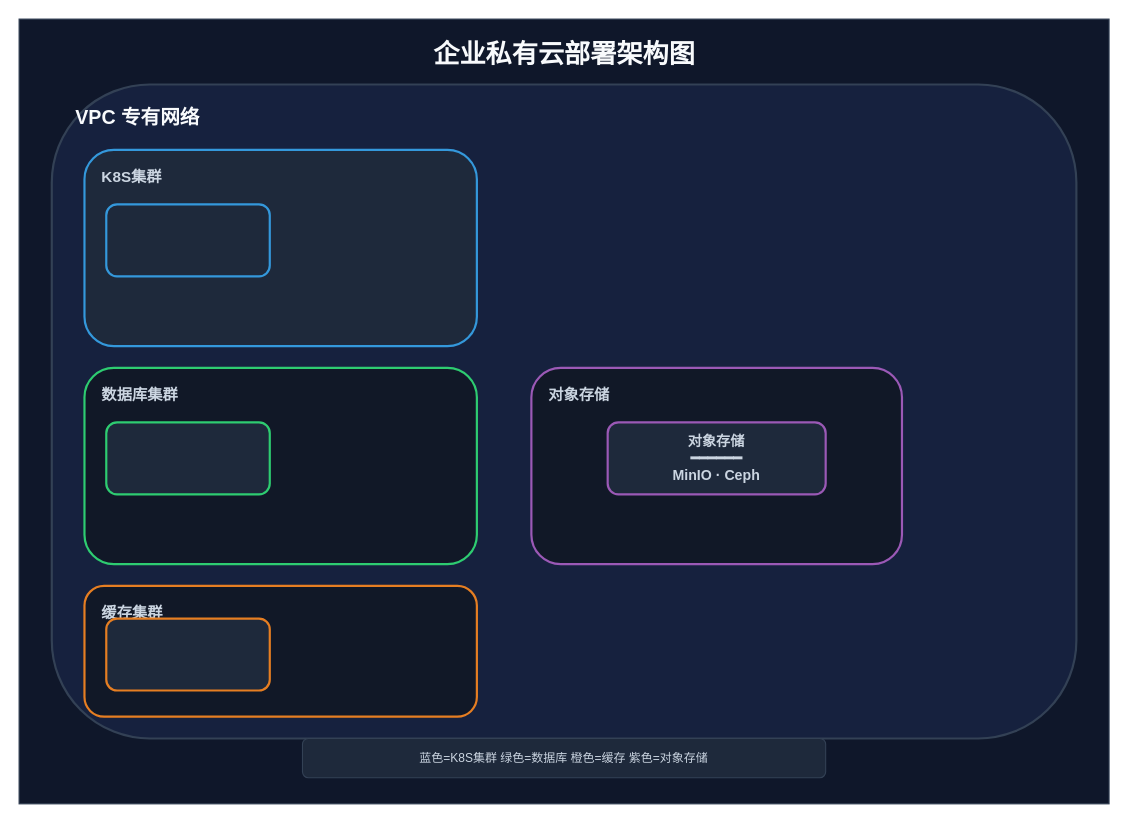
This 1128x823 diagram has some shape labels left out. Here are the shapes that lost their labels. From the top down, the box of each, then its label:
(105, 203, 270, 277): Kubernetes ━━━━━━━━ Master · Worker节点
(105, 421, 270, 495): 数据库集群 ━━━━━━━━ MySQL主从 · TiDB
(105, 617, 270, 691): Redis缓存集群 ━━━━━━━━━ Redis Cluster · Redisson
